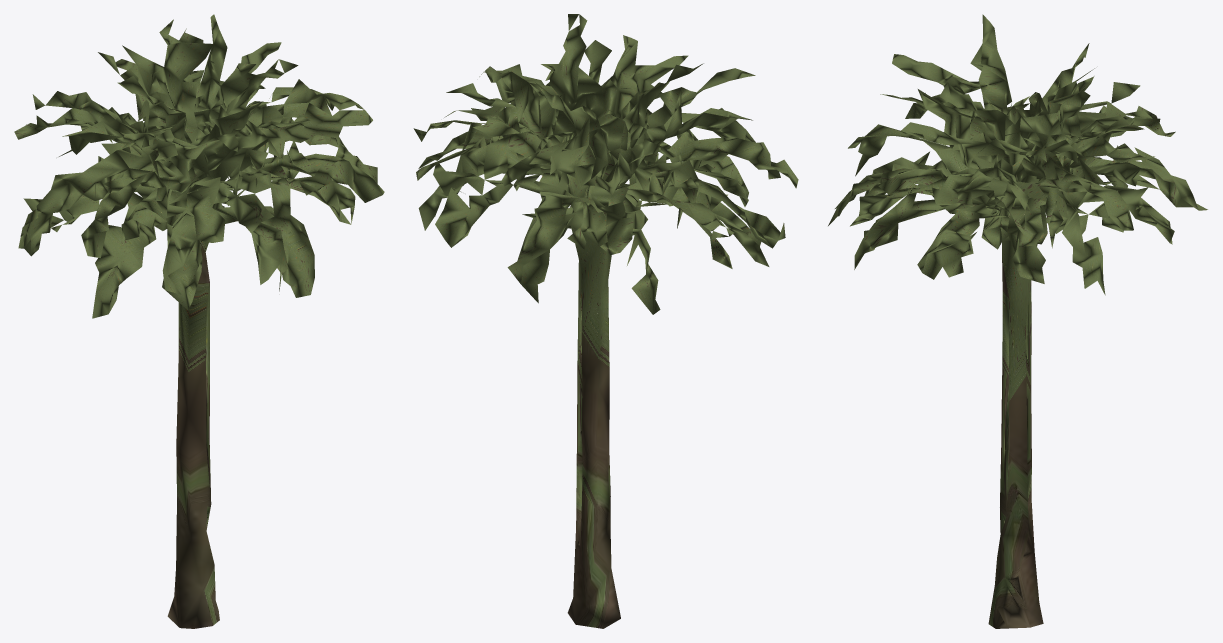
File: palm2_lod1.glb
3 renders of one model, left to right at view 1: azimuth 30°, elevation 25°; view 2: azimuth 150°, elevation 25°; view 3: azimuth 270°, elevation 25°, orthographic.
Bounding box in the file's own units: 1.17 × 1.87 × 1.14.
Materials: 1 (1 with a texture image).
